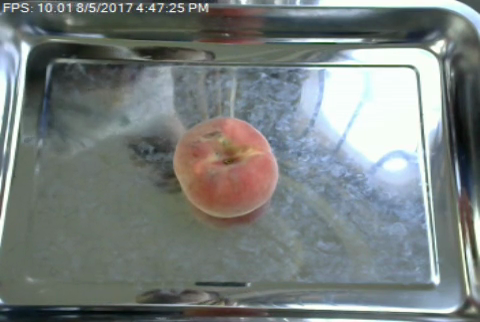Peach: (174, 115, 276, 216)
